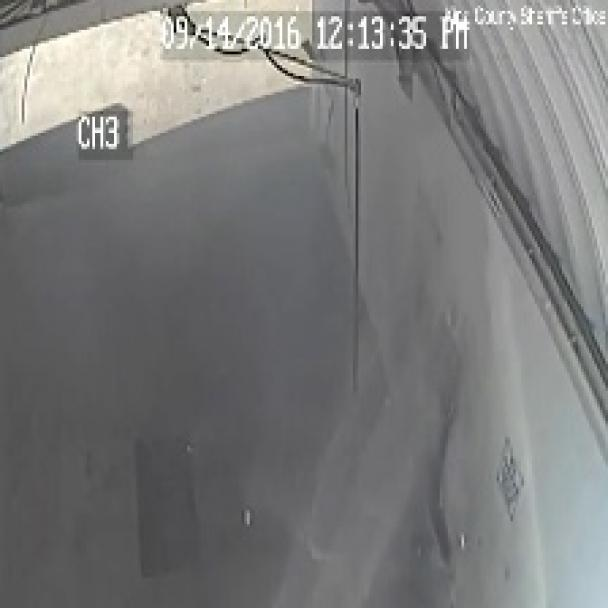smoke: (38, 100, 605, 605)
